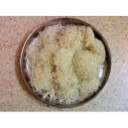idiyappam: (72, 52, 101, 77), (54, 68, 75, 94), (60, 26, 82, 49), (33, 68, 54, 90), (27, 45, 50, 65), (53, 48, 73, 68)
